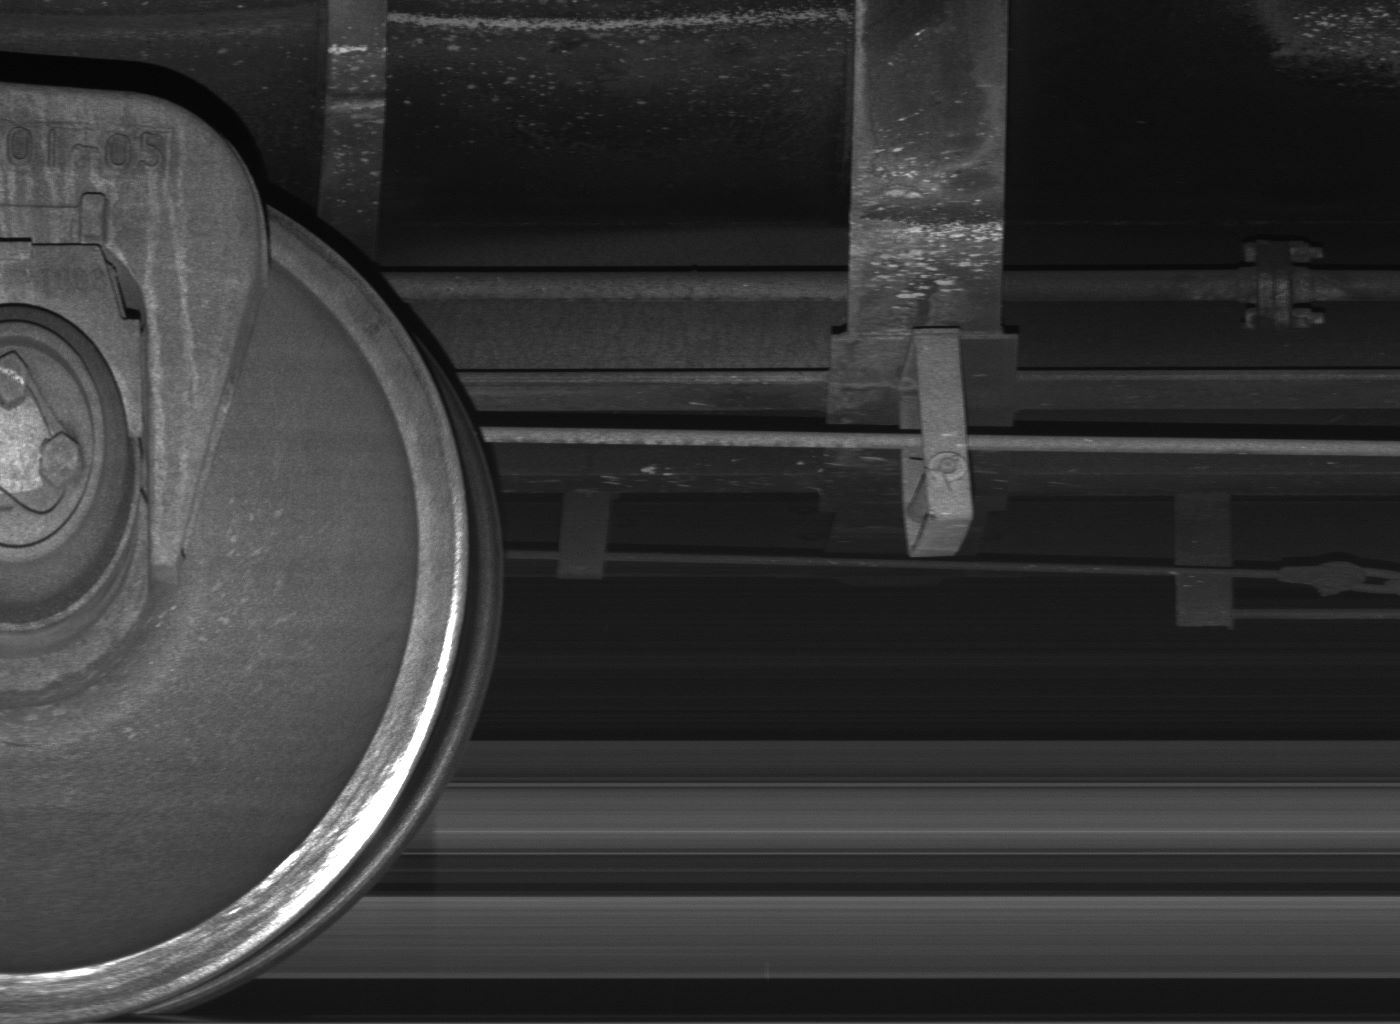normal: (899, 328, 977, 559), (558, 495, 611, 580)
upper lever: (1173, 494, 1237, 625)
